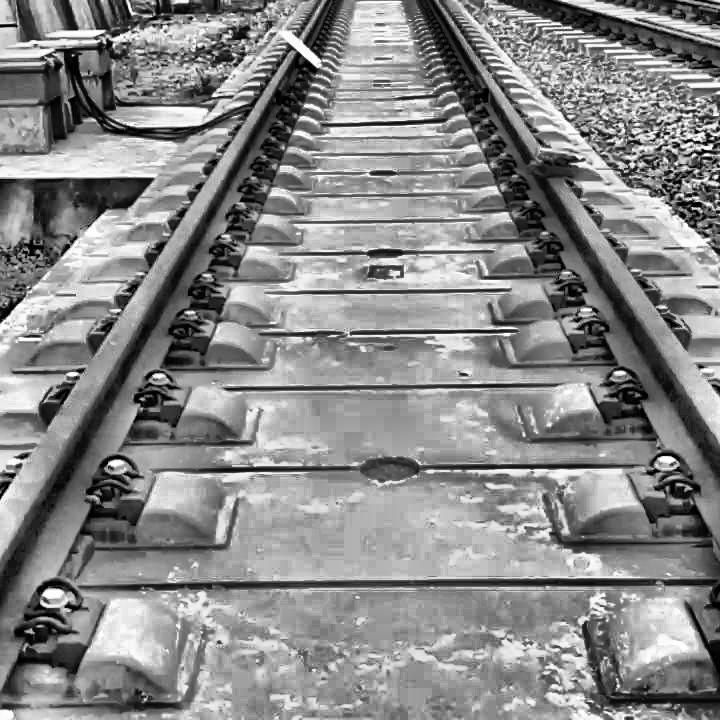Trash: (283, 22, 330, 76)
